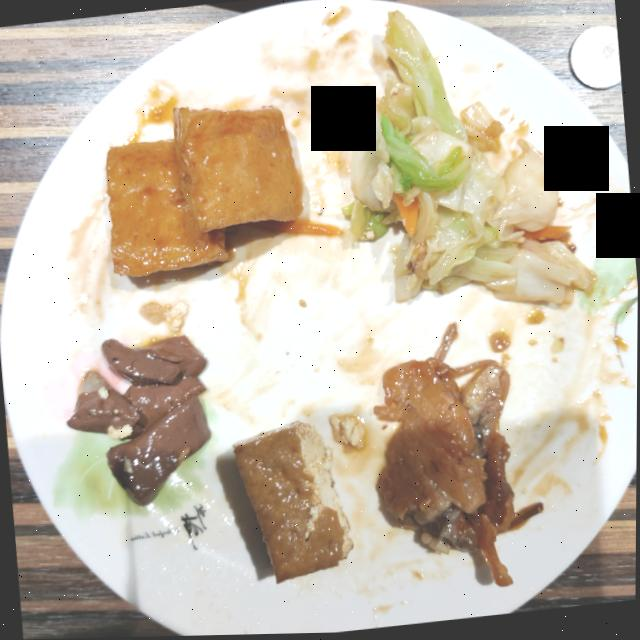Kabayaki sea bream fillet: (374, 357, 542, 588)
cabbage: (345, 12, 595, 306)
coin: (569, 28, 621, 92)
creamy tofu: (105, 107, 302, 278)
egg tofu: (233, 423, 353, 584)
pig blood curd: (67, 336, 211, 506)
